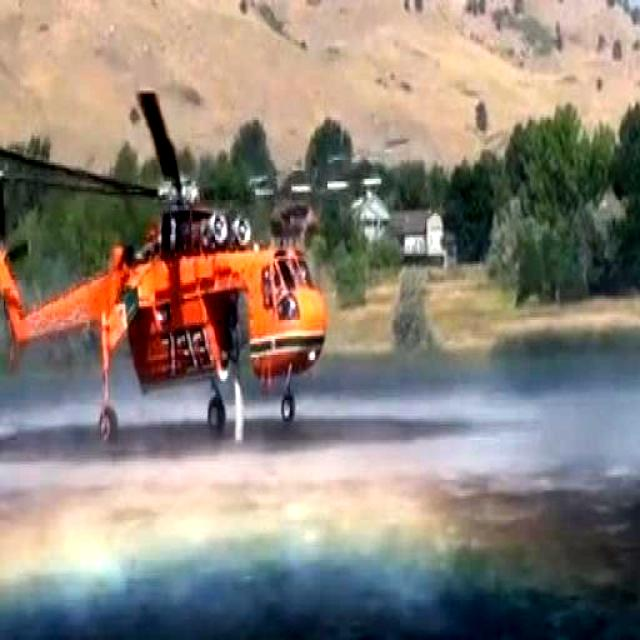drone: (0, 84, 351, 445)
